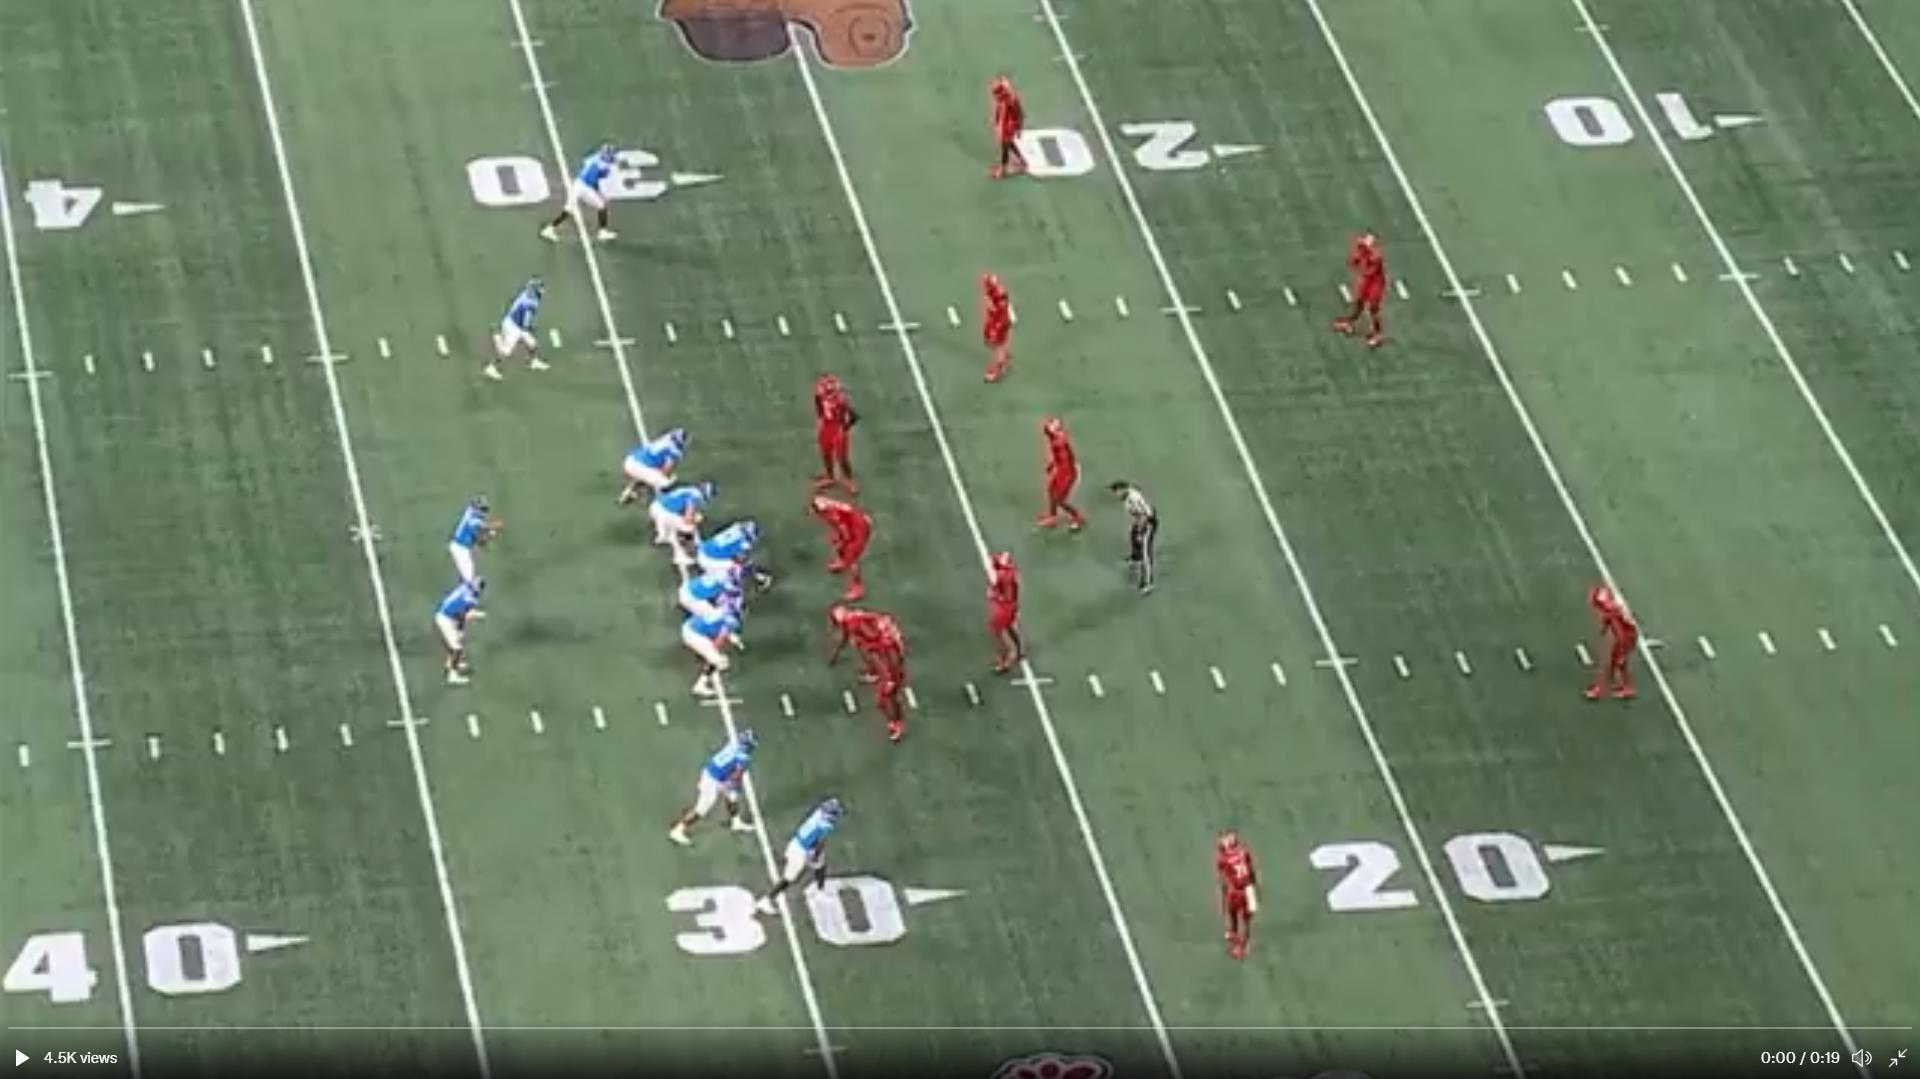center: (705, 525, 771, 590)
db: (1213, 834, 1261, 956), (1584, 586, 1636, 694), (1345, 226, 1387, 346), (981, 75, 1026, 164), (982, 266, 1017, 381)
lb: (977, 543, 1021, 667), (1038, 416, 1085, 528)
qb: (451, 501, 485, 590)
skill: (760, 795, 845, 890), (560, 149, 636, 237), (683, 729, 748, 827), (433, 580, 484, 675), (491, 284, 545, 369)
